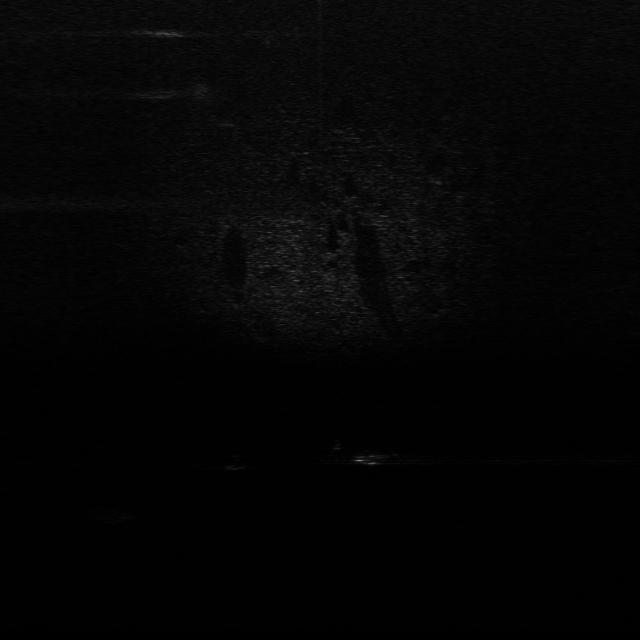ball: (212, 450, 249, 474)
circle cage: (88, 504, 141, 526)
human body: (323, 436, 422, 470)
